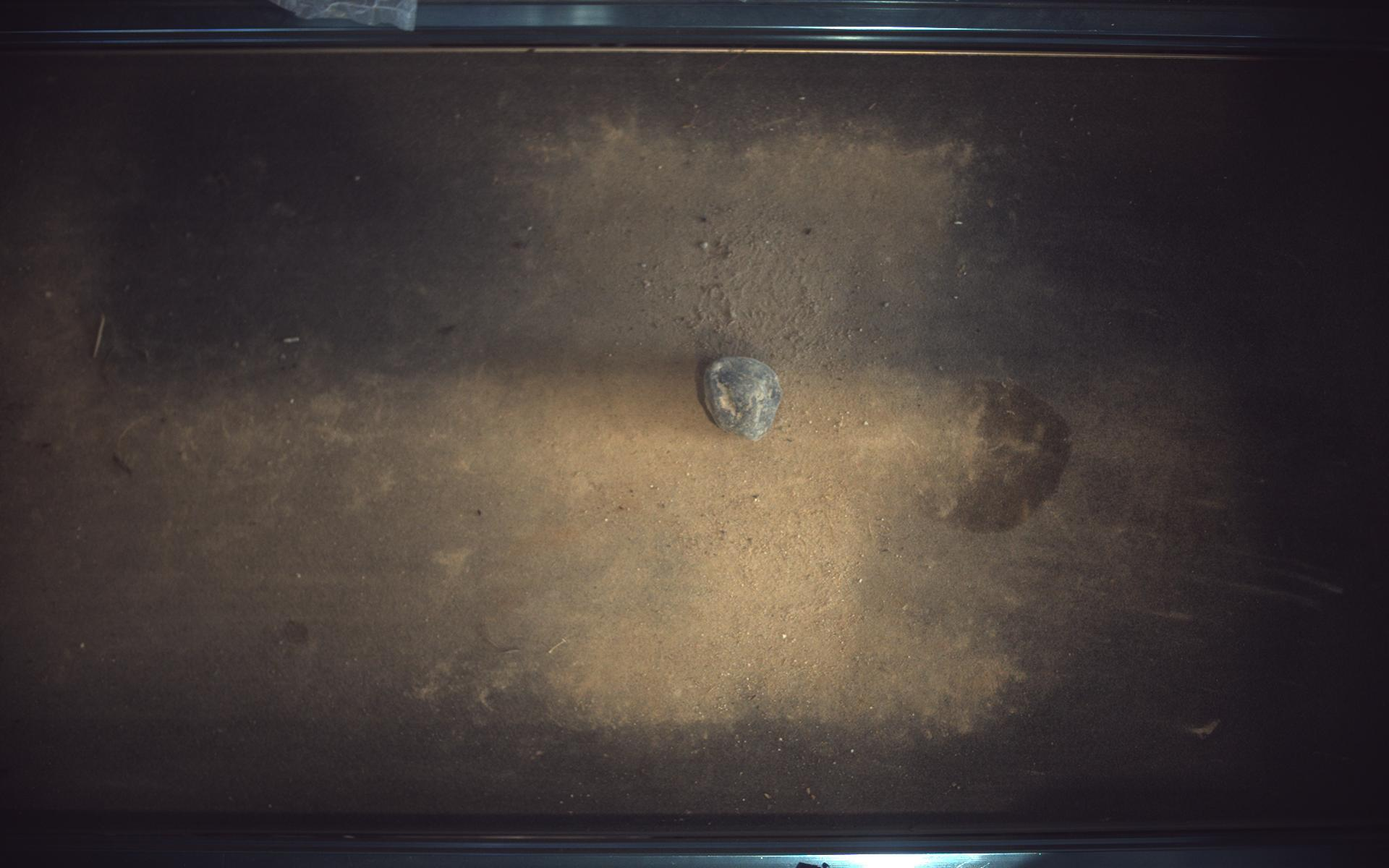stone: (705, 357, 783, 441)
